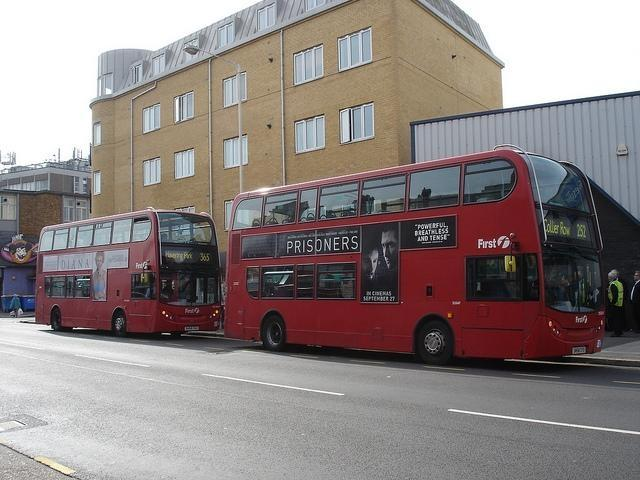bus: (221, 144, 606, 368), (33, 206, 223, 336)
